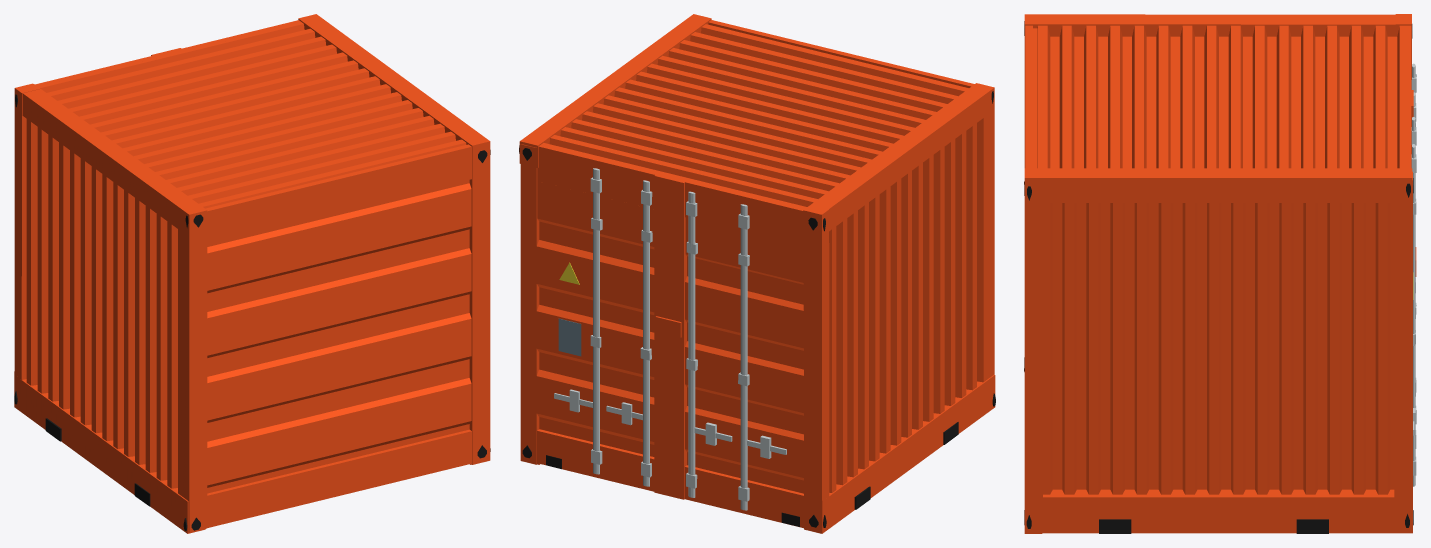
The model's file is ShipContainer.glb.
3 views of the same model, side by side, from view 1: azimuth 30°, elevation 25°; view 2: azimuth 150°, elevation 25°; view 3: azimuth 270°, elevation 25° (orthographic). The views are drawn at different scales.
Visible parts, largest first — view 1: Back, Frame, Top, Right; view 2: Door, Frame, Top, Right; view 3: Left, Top, Frame, Door, Back.
Part boxes in pixels (bbox=[...]): Back: bbox=[207, 180, 471, 493]; Frame: bbox=[14, 14, 490, 533]; Top: bbox=[39, 22, 466, 208]; Right: bbox=[26, 119, 182, 496]; Door: bbox=[536, 168, 803, 526]; Frame: bbox=[519, 14, 995, 533]; Top: bbox=[542, 24, 968, 208]; Right: bbox=[829, 115, 987, 492]; Left: bbox=[1043, 203, 1394, 494]; Top: bbox=[1037, 25, 1403, 168]; Frame: bbox=[1024, 14, 1413, 533]; Door: bbox=[1394, 63, 1416, 531]; Back: bbox=[1033, 28, 1042, 531].
Bounding box in the file's own units: 1.18 × 1.18 × 1.18.
